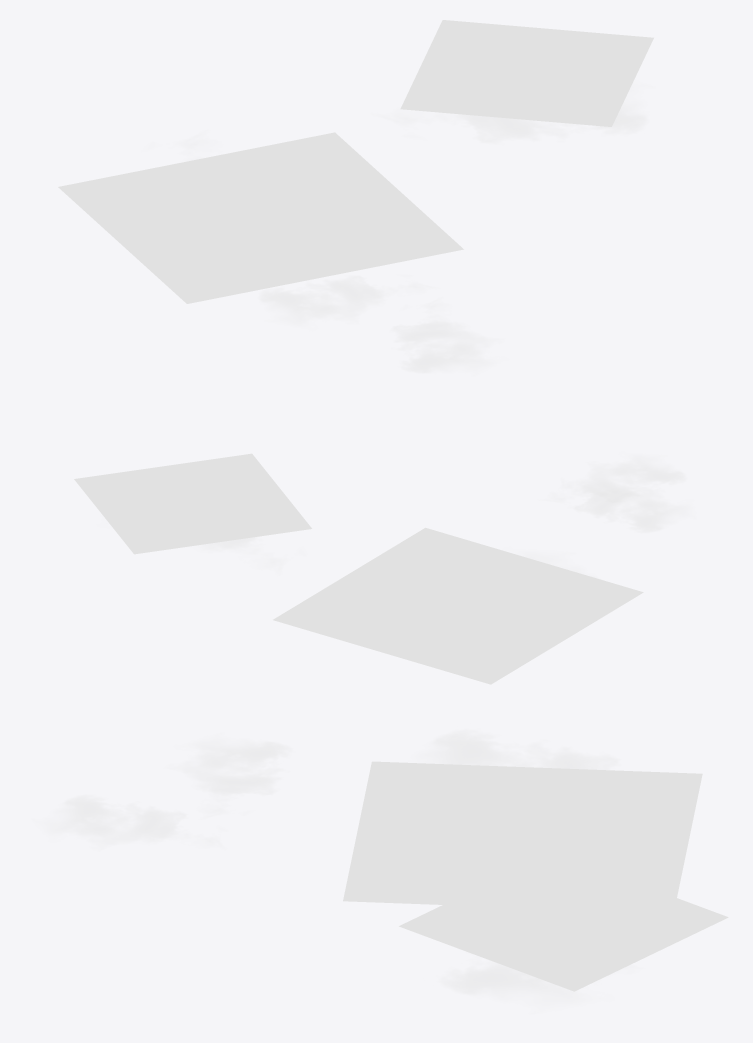
File: dubai_clouds.glb
3 renders of one model, top to bottom at view 1: azimuth 30°, elevation 25°; view 2: azimuth 150°, elevation 25°; view 3: azimuth 270°, elevation 25°, orthographic. The views are drawn at different scales.
Visible parts, largest first — view 1: cloud_06, cloud_05, cloud_03, cloud_02, cloud_01, cloud_04; view 2: cloud_06, cloud_05, cloud_03, cloud_02, cloud_01, cloud_04; view 3: cloud_06, cloud_05, cloud_03, cloud_02, cloud_01, cloud_04.
Part boxes in pixels (box(x1,y1,x2,y2)): cloud_06: box(58, 132, 463, 303); cloud_05: box(400, 20, 653, 126); cloud_03: box(130, 135, 288, 245); cloud_02: box(259, 276, 429, 324); cloud_01: box(392, 300, 493, 372); cloud_04: box(384, 101, 647, 143); cloud_06: box(273, 527, 643, 684); cloud_05: box(74, 453, 311, 554); cloud_03: box(393, 553, 603, 624); cloud_02: box(562, 481, 688, 532); cloud_01: box(552, 455, 685, 501); cloud_04: box(200, 537, 283, 569); cloud_06: box(343, 761, 702, 904); cloud_05: box(399, 852, 728, 991); cloud_03: box(405, 730, 671, 810); cloud_02: box(177, 739, 291, 816); cloud_01: box(46, 795, 221, 846); cloud_04: box(440, 961, 628, 1004).
Size of the model in its own units: 682 by 67.25 by 663.
2 materials, 2 textured.
